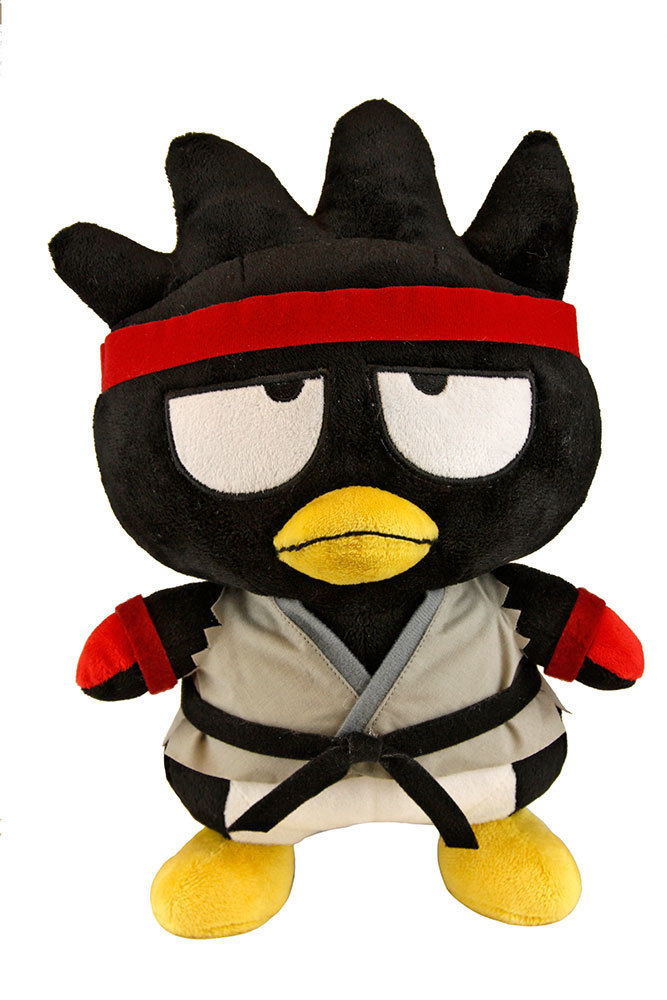batsumaru: (35, 97, 644, 941)
